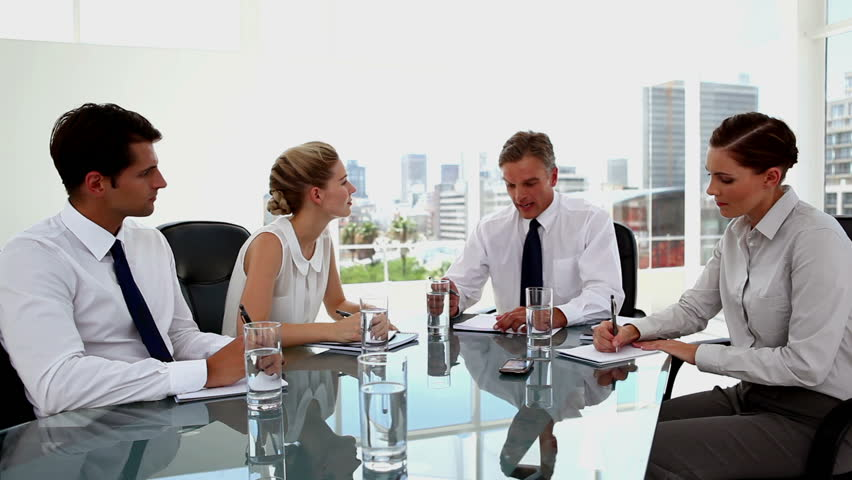Person: (591, 101, 850, 480), (8, 95, 267, 443), (429, 113, 635, 362), (214, 117, 413, 371)
